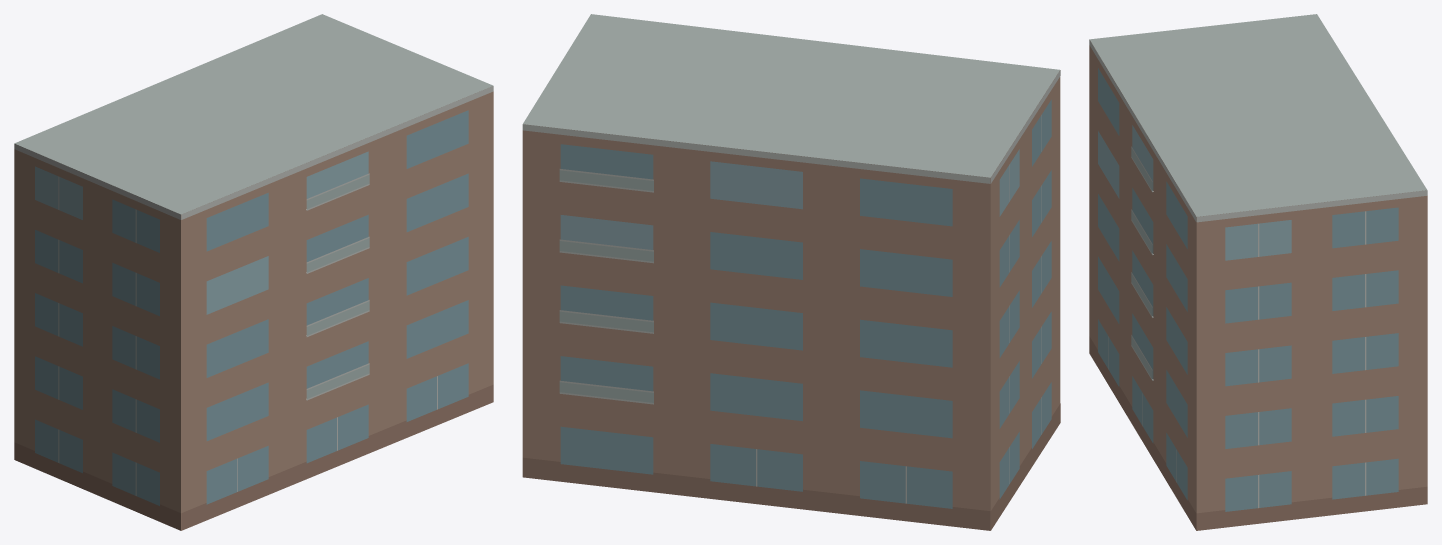
The model's file is survey-upis-32653634.glb.
The picture shows the model from 3 angles, left to right: view 1: azimuth 30°, elevation 25°; view 2: azimuth 150°, elevation 25°; view 3: azimuth 270°, elevation 25°; orthographic projection. The views are drawn at different scales.
Visible parts, largest first — view 1: survey-upis-32653634.tmp; view 2: survey-upis-32653634.tmp; view 3: survey-upis-32653634.tmp.
Boxes of the visible parts, x1,y1,x2,y2 form: survey-upis-32653634.tmp: (14,14,493,530); survey-upis-32653634.tmp: (522,14,1060,530); survey-upis-32653634.tmp: (1089,14,1427,530).
Bounding box in the file's own units: 19.06 × 13.75 × 13.43.
